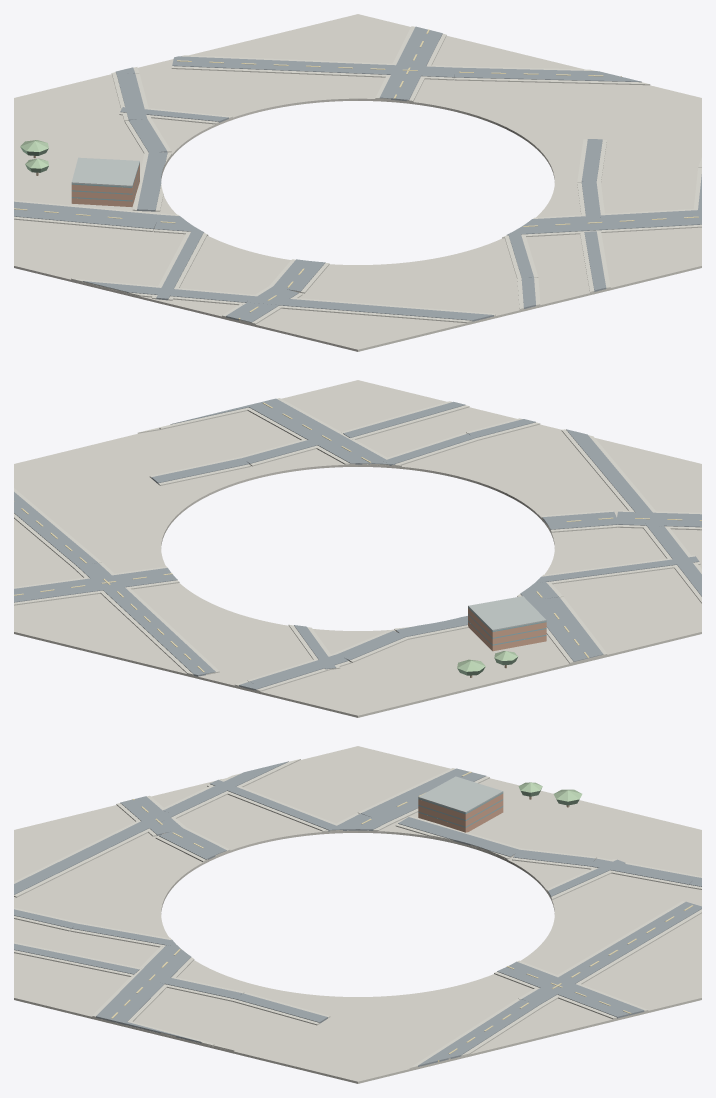
The model's file is surround-P05.glb.
3 renders of one model, top to bottom at view 1: azimuth 30°, elevation 25°; view 2: azimuth 150°, elevation 25°; view 3: azimuth 270°, elevation 25°, orthographic.
Parts seen in each view (by area): view 1: P05_neutral, P05_road, P05_pave, P05_roof, P05_brick, P05_lane; view 2: P05_neutral, P05_road, P05_pave, P05_roof, P05_brick, P05_lane; view 3: P05_neutral, P05_road, P05_pave, P05_roof, P05_brick, P05_lane.
Boxes of the visible parts, x1,y1,x2,y2 form: P05_neutral: [14, 14, 701, 351]; P05_road: [14, 26, 701, 322]; P05_pave: [14, 26, 701, 324]; P05_roof: [71, 157, 139, 186]; P05_brick: [71, 164, 139, 206]; P05_lane: [14, 29, 698, 320]; P05_neutral: [14, 380, 701, 717]; P05_road: [14, 398, 701, 690]; P05_pave: [14, 398, 701, 691]; P05_roof: [468, 596, 546, 630]; P05_brick: [468, 608, 546, 651]; P05_lane: [14, 402, 701, 672]; P05_neutral: [14, 746, 701, 1083]; P05_road: [14, 761, 701, 1066]; P05_pave: [14, 759, 701, 1068]; P05_roof: [418, 776, 503, 813]; P05_brick: [418, 793, 503, 832]; P05_lane: [111, 771, 693, 1061].
Bounding box in the file's own units: 16.17 × 0.5347 × 14.
